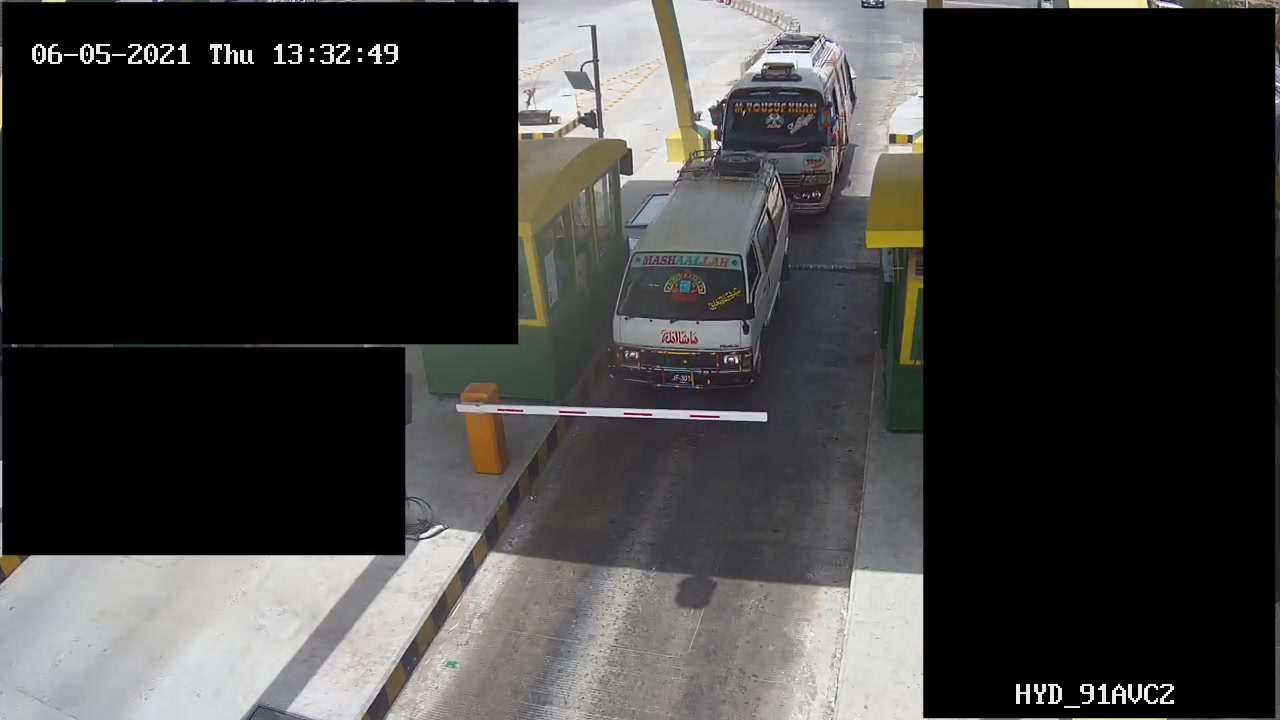F2: (603, 150, 787, 403)
